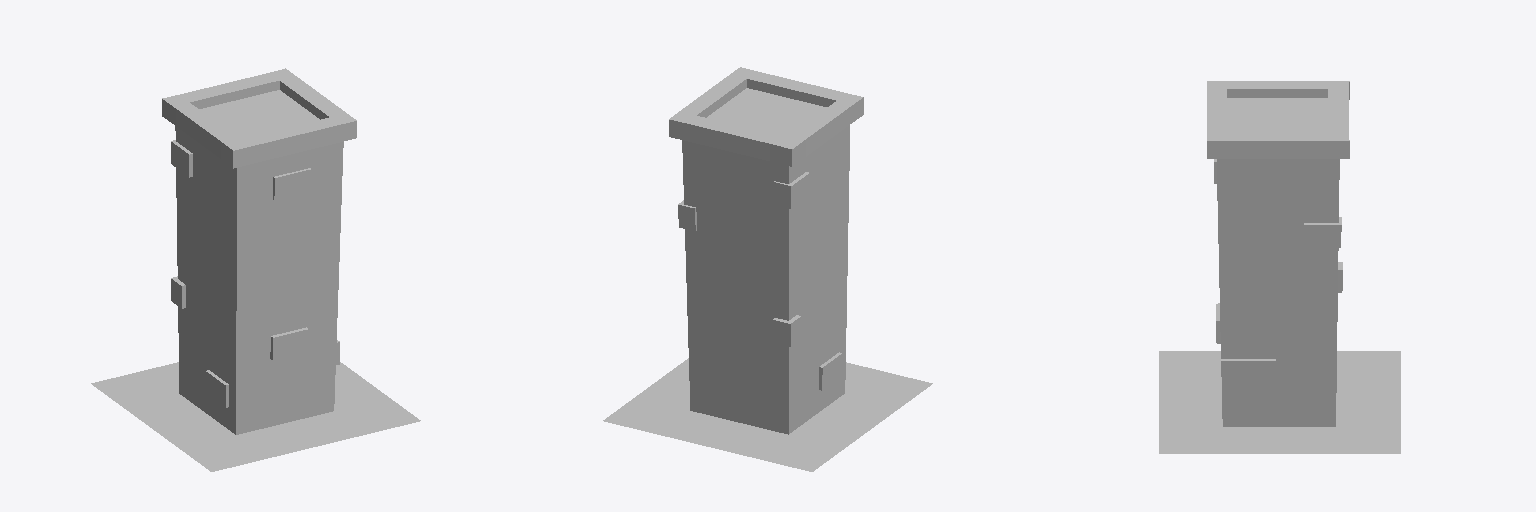
File: building.obj
3 renders of one model, left to right at view 1: azimuth 30°, elevation 25°; view 2: azimuth 150°, elevation 25°; view 3: azimuth 270°, elevation 25°, orthographic.
Parts seen in each view (by area): view 1: Cube.001; view 2: Cube.001; view 3: Cube.001.
Part boxes in pixels (x1,y1,x2,y2): Cube.001: (91, 68, 420, 471); Cube.001: (603, 67, 932, 471); Cube.001: (1159, 81, 1400, 453).
Size of the model in its own units: 1.55 by 2.06 by 1.55.